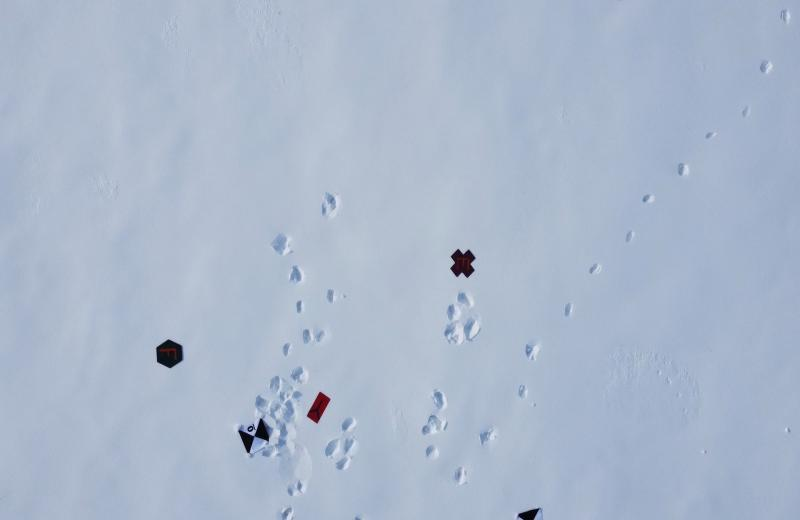Cross: (447, 247, 478, 281)
Hexagon: (156, 338, 184, 370)
Rectangle: (306, 389, 330, 426)
